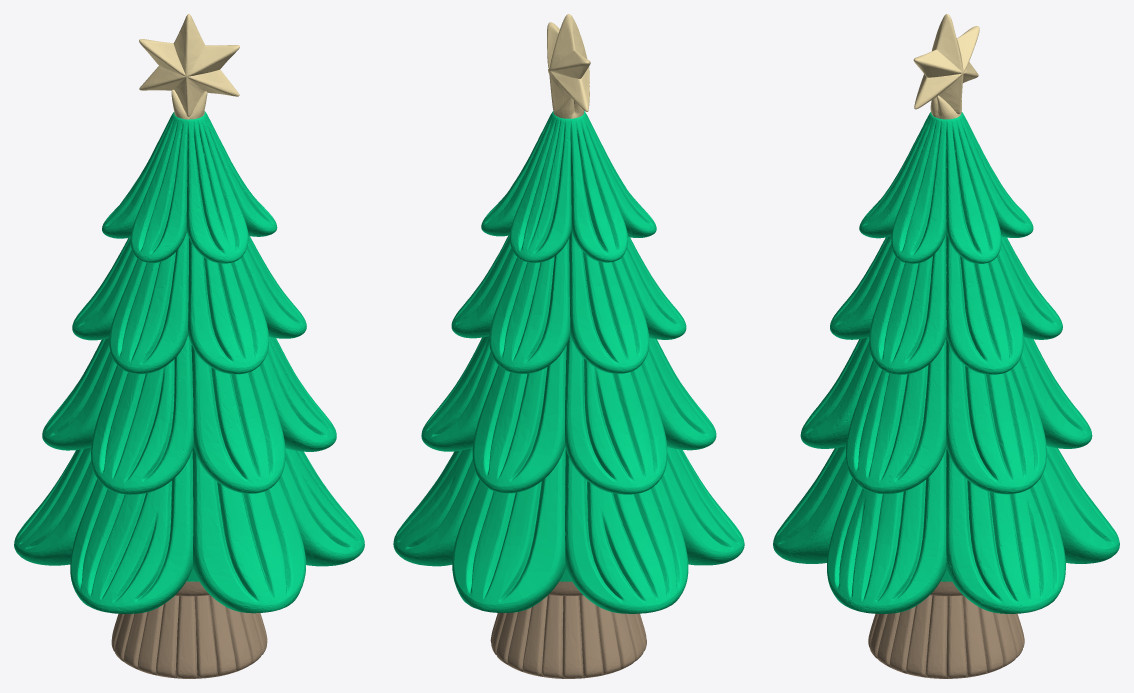
File: arbol-grande.glb
The picture shows the model from 3 angles, left to right: view 1: azimuth 30°, elevation 25°; view 2: azimuth 150°, elevation 25°; view 3: azimuth 270°, elevation 25°; orthographic projection.
Parts seen in each view (by area): view 1: arbol, base, estrella; view 2: arbol, base, estrella; view 3: arbol, base, estrella.
Part boxes in pixels (<box>): arbol: <box>14,111,364,613</box>; base: <box>111,581,267,678</box>; estrella: <box>139,14,239,119</box>; arbol: <box>393,111,744,613</box>; base: <box>490,581,646,678</box>; estrella: <box>547,14,590,118</box>; arbol: <box>773,112,1119,613</box>; base: <box>868,581,1024,678</box>; estrella: <box>913,14,979,119</box>.
Bounding box in the file's own units: 0.0683 × 0.15 × 0.0743.
